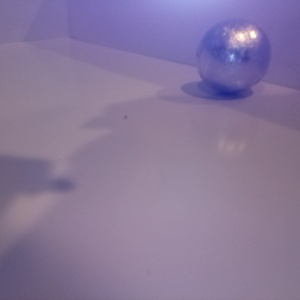alive_ball: (197, 20, 269, 93)
